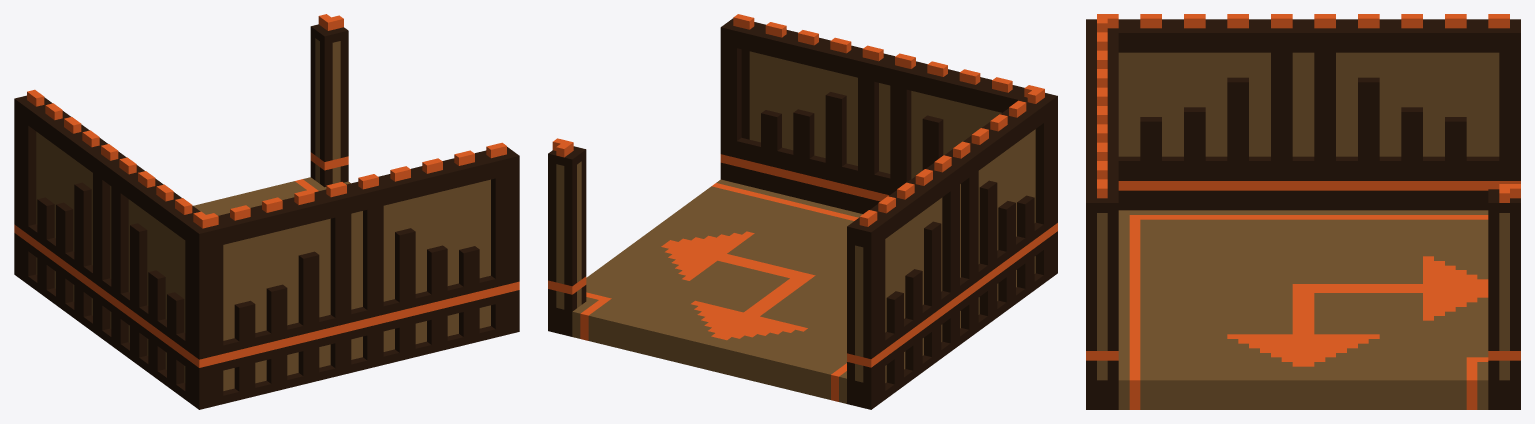
The model's file is Factory Bits-11-Corner.obj.
3 renders of one model, left to right at view 1: azimuth 30°, elevation 25°; view 2: azimuth 150°, elevation 25°; view 3: azimuth 270°, elevation 25°, orthographic. The views are drawn at different scales.
Visible parts, largest first — view 1: Corner; view 2: Corner; view 3: Corner.
Boxes of the visible parts, left/top/right/bottom form: Corner: left=14, top=14, right=519, bottom=409; Corner: left=548, top=14, right=1057, bottom=409; Corner: left=1086, top=14, right=1520, bottom=409.
Size of the model in its own units: 4 by 2.2 by 4.
Materials: 1 (1 with a texture image).
